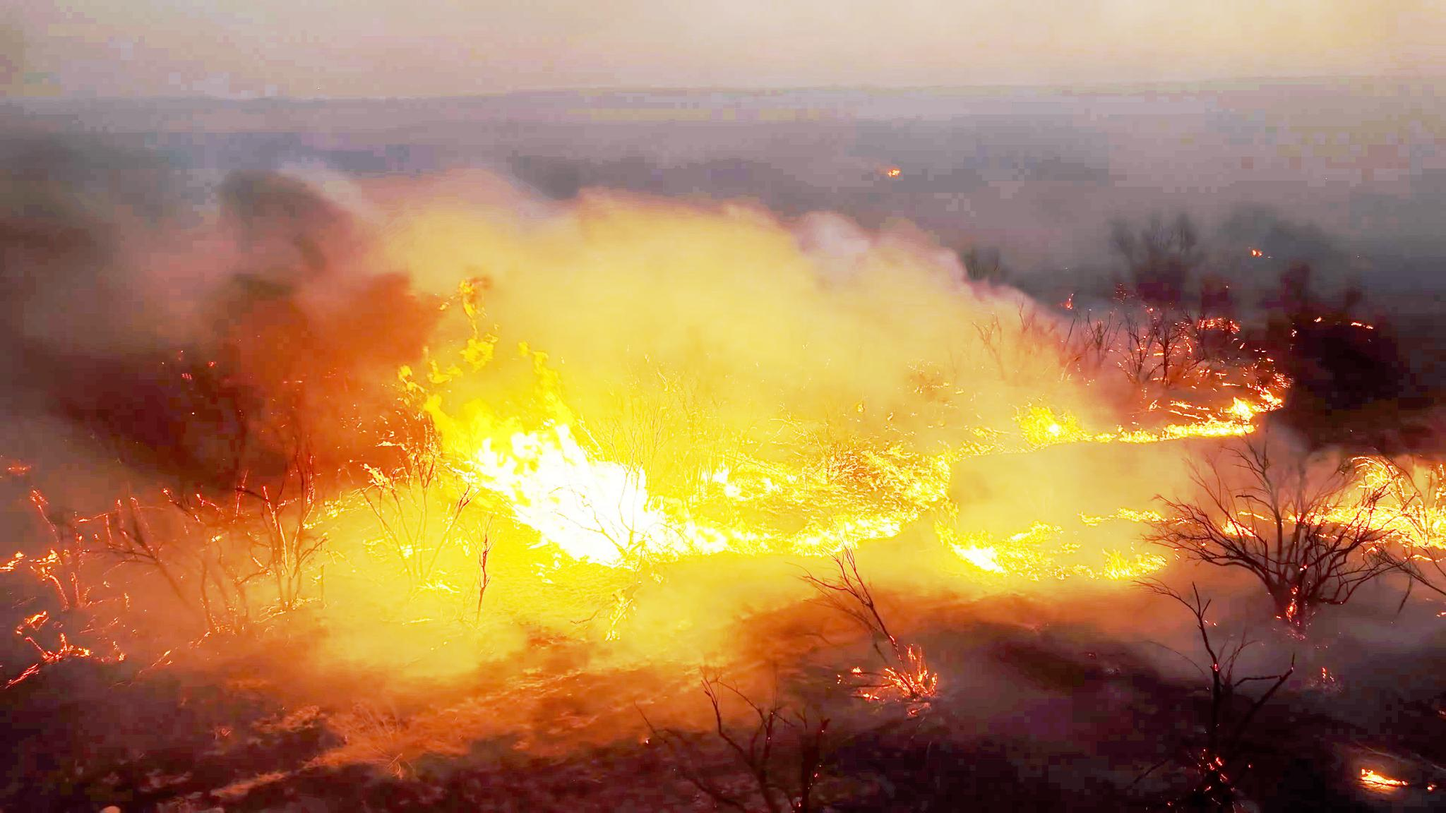fire: (419, 303, 660, 569), (656, 428, 955, 563), (969, 379, 1292, 455), (942, 497, 1156, 584), (1336, 469, 1446, 560)
